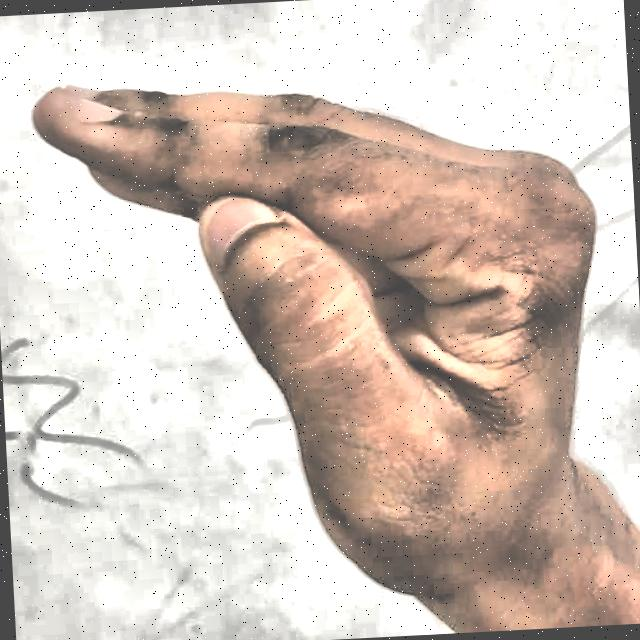Ga: (12, 31, 626, 626)
